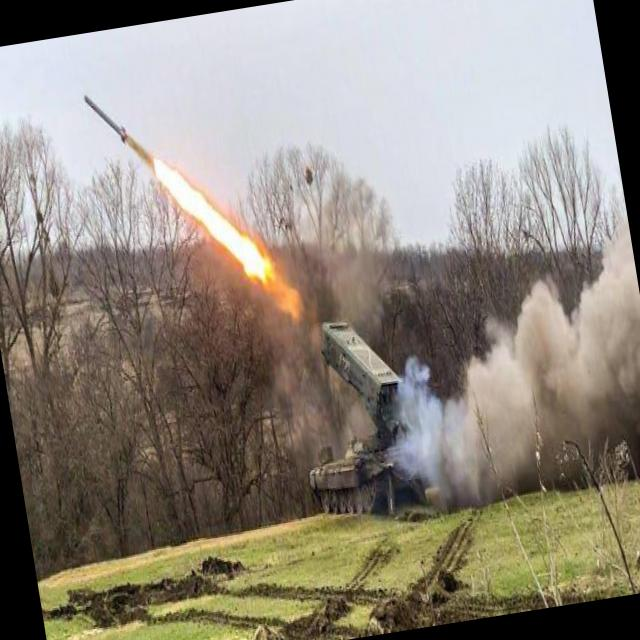rocket: (76, 44, 292, 341)
